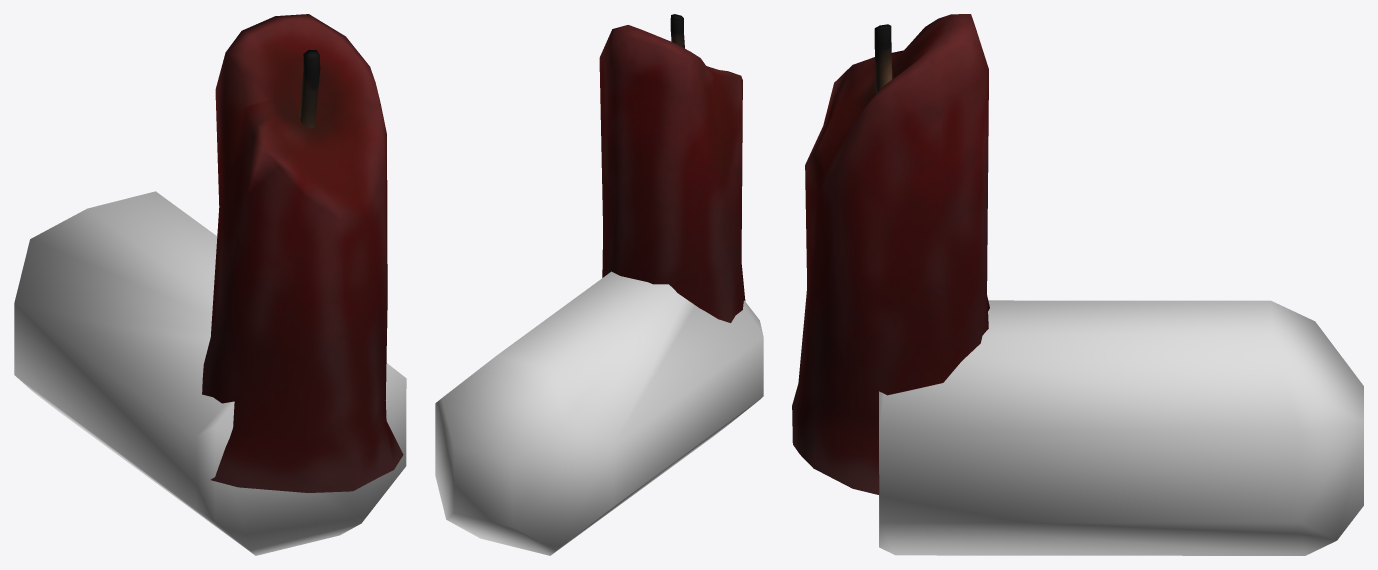
File: SM_Candles_B.fbx
3 renders of one model, left to right at view 1: azimuth 30°, elevation 25°; view 2: azimuth 150°, elevation 25°; view 3: azimuth 270°, elevation 25°, orthographic. The views are drawn at different scales.
Visible parts, largest first — view 1: SM_Candles_B, SM_Candles_B_ConvexHulls; view 2: SM_Candles_B_ConvexHulls, SM_Candles_B; view 3: SM_Candles_B_ConvexHulls, SM_Candles_B.
Boxes of the visible parts, x1,y1,x2,y2 form: SM_Candles_B: [202, 14, 403, 492]; SM_Candles_B_ConvexHulls: [14, 191, 406, 555]; SM_Candles_B_ConvexHulls: [435, 271, 763, 555]; SM_Candles_B: [599, 14, 745, 322]; SM_Candles_B_ConvexHulls: [879, 300, 1363, 555]; SM_Candles_B: [792, 14, 989, 494].
Bounding box in the file's own units: 0.098 × 0.2311 × 0.2312.
